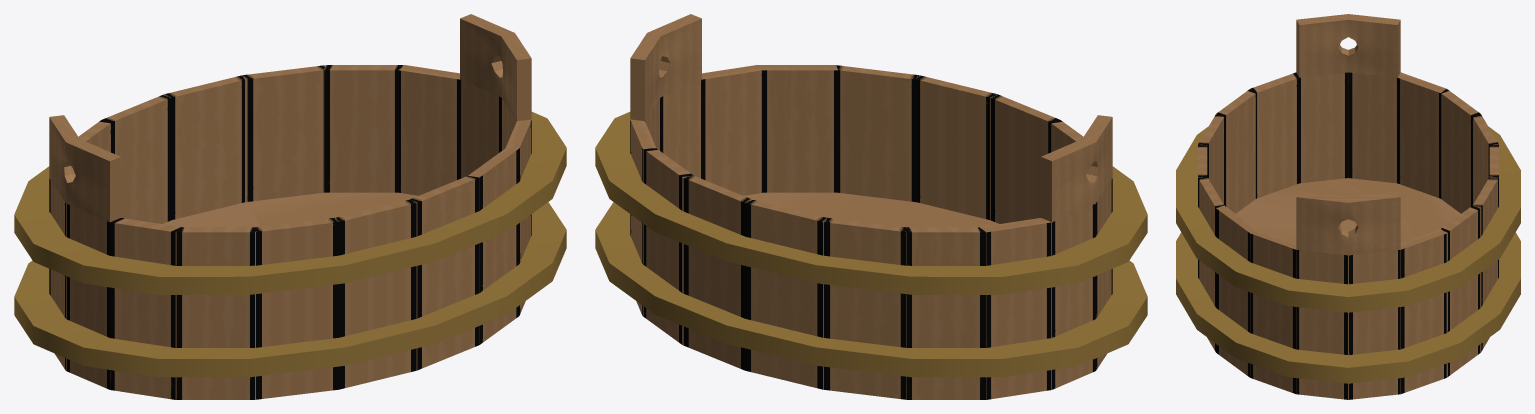
Rendered from balde.fbx.
The picture shows the model from 3 angles, left to right: view 1: azimuth 30°, elevation 25°; view 2: azimuth 150°, elevation 25°; view 3: azimuth 270°, elevation 25°; orthographic projection. The views are drawn at different scales.
Visible parts, largest first — view 1: Tira, Object002, Object011, Object003, Object001, Object012, Object010, Object004, Object013, Object009, Object018, Caja1 (+9 smaller); view 2: Tira, Object009, Object018, Object008, Object010, Object017, Object001, Object007, Object016, Object002, Object011, Caja1 (+9 smaller); view 3: Tira, Caja1, Caja2, Cylinder001, Object014, Object015, Object013, Object016, Object005, Object006, Object004, Object007 (+10 smaller).
Part boxes in pixels (<box>): Tira: <box>14,112,566,377</box>; Object002: <box>242,65,325,202</box>; Object011: <box>255,217,338,399</box>; Object003: <box>323,65,404,192</box>; Object001: <box>164,75,244,219</box>; Object012: <box>175,227,256,399</box>; Object010: <box>336,200,416,389</box>; Object004: <box>398,65,459,195</box>; Object013: <box>110,218,181,399</box>; Object009: <box>409,176,479,370</box>; Object018: <box>102,94,171,223</box>; Caja1: <box>49,115,120,222</box>; Tira: <box>595,112,1147,377</box>; Object009: <box>836,65,919,202</box>; Object018: <box>823,217,906,399</box>; Object008: <box>757,65,838,192</box>; Object010: <box>917,75,997,219</box>; Object017: <box>905,227,986,399</box>; Object001: <box>745,200,825,389</box>; Object007: <box>702,65,763,195</box>; Object016: <box>980,218,1051,399</box>; Object002: <box>682,176,752,370</box>; Object011: <box>990,94,1059,223</box>; Caja1: <box>1041,115,1112,222</box>; Tira: <box>1176,126,1520,383</box>; Caja1: <box>1296,14,1400,77</box>; Caja2: <box>1296,191,1400,255</box>; Cylinder001: <box>1236,178,1460,242</box>; Object014: <box>1299,72,1348,183</box>; Object015: <box>1348,72,1397,183</box>; Object013: <box>1250,72,1299,198</box>; Object016: <box>1397,72,1446,198</box>; Object005: <box>1348,250,1400,399</box>; Object006: <box>1296,250,1348,399</box>; Object004: <box>1400,229,1446,393</box>; Object007: <box>1250,229,1296,393</box>.
Size of the model in its own units: 40.18 by 17.08 by 27.08.
Materials: 3 (2 with a texture image).
